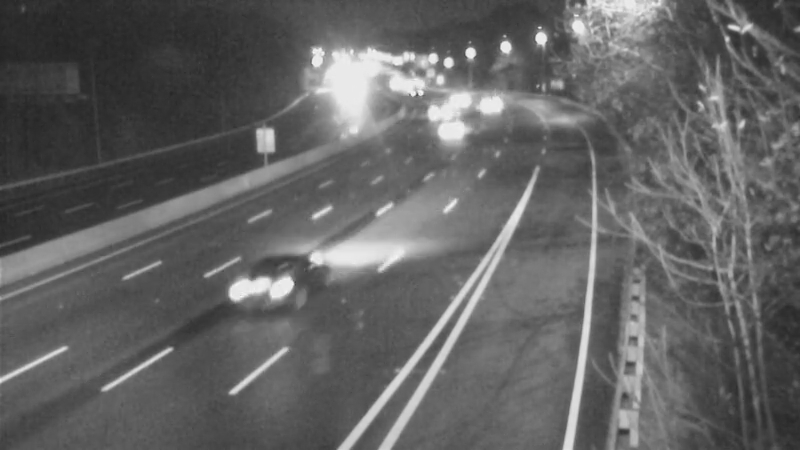vehicle: (220, 253, 300, 333), (435, 67, 485, 117), (463, 78, 513, 128), (415, 88, 465, 138), (429, 100, 479, 150)
